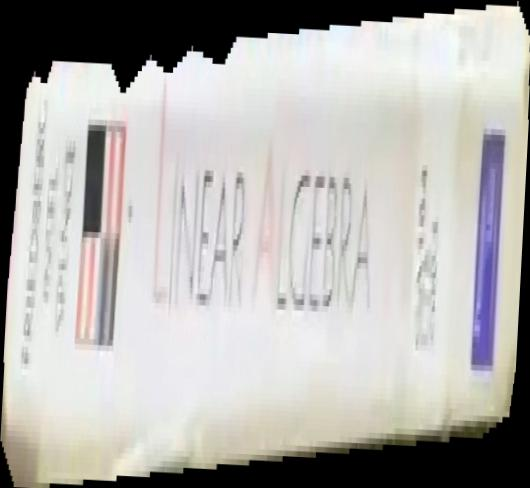flat: (1, 1, 530, 488)
